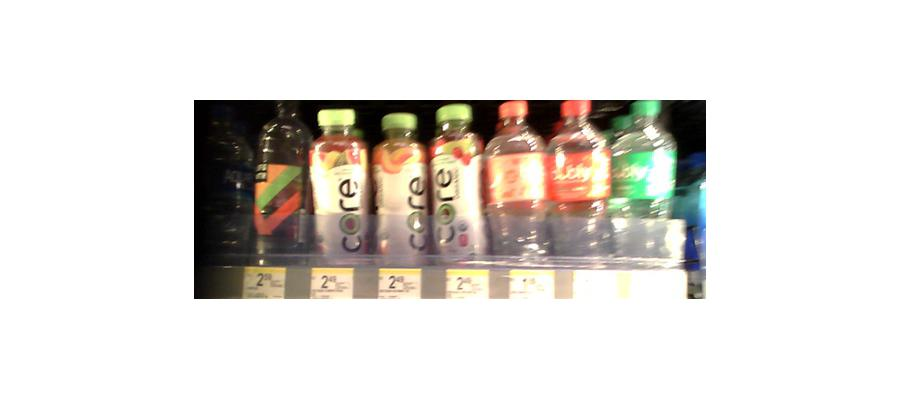bottle: (608, 100, 676, 262), (483, 97, 548, 262), (548, 96, 610, 264), (310, 107, 370, 264), (428, 104, 484, 267), (254, 97, 307, 261), (371, 111, 427, 265)
